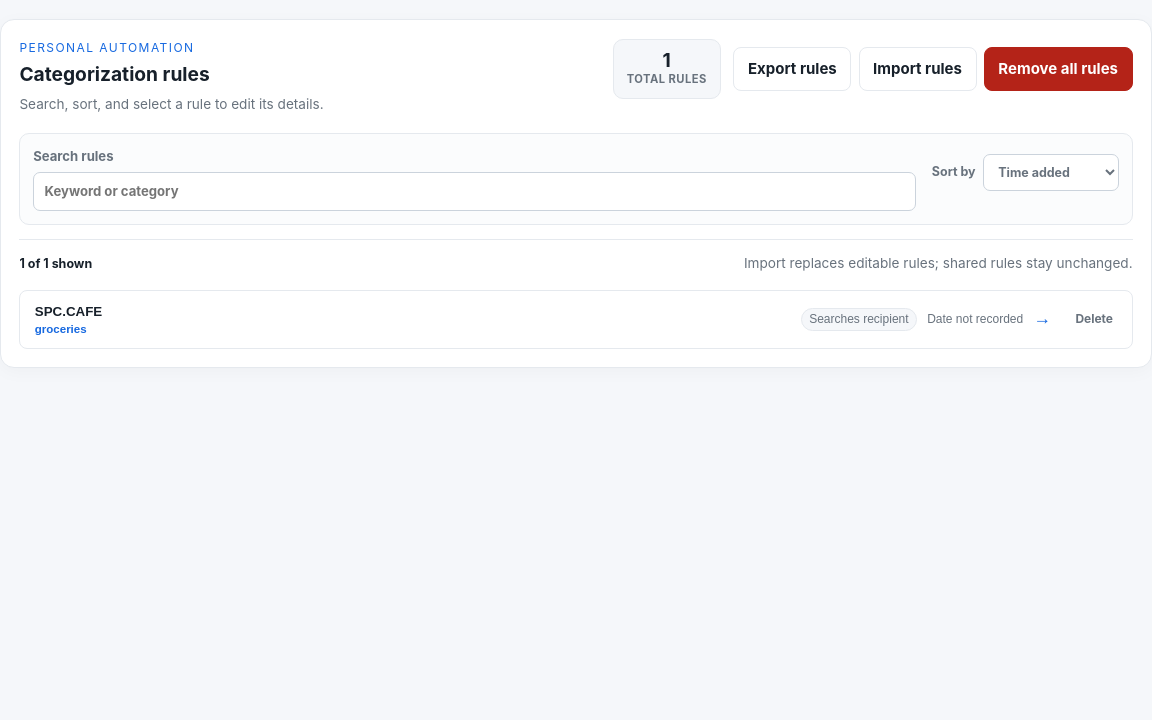
rule summary list management › requires typing delete and supports cancel before removing all rules
The image size is (1152, 720).
Click the button "Remove all rules" at (1058, 69), box [984,47,1133,91]
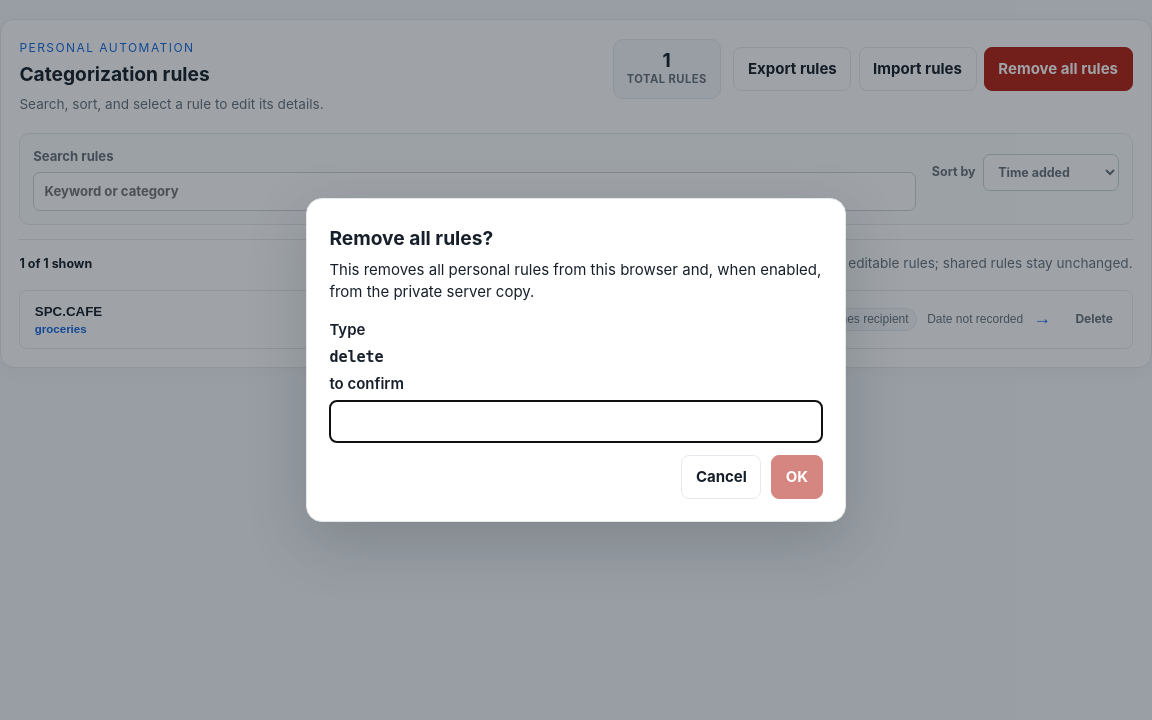
expect the dialog is shown: met, box [306,198,846,522]
expect the button "OK" is disabled: met, box [771,455,823,499]
Type "DELETE" into the field labelled "Type delete to confirm" at (576, 421), box [329,400,823,442]
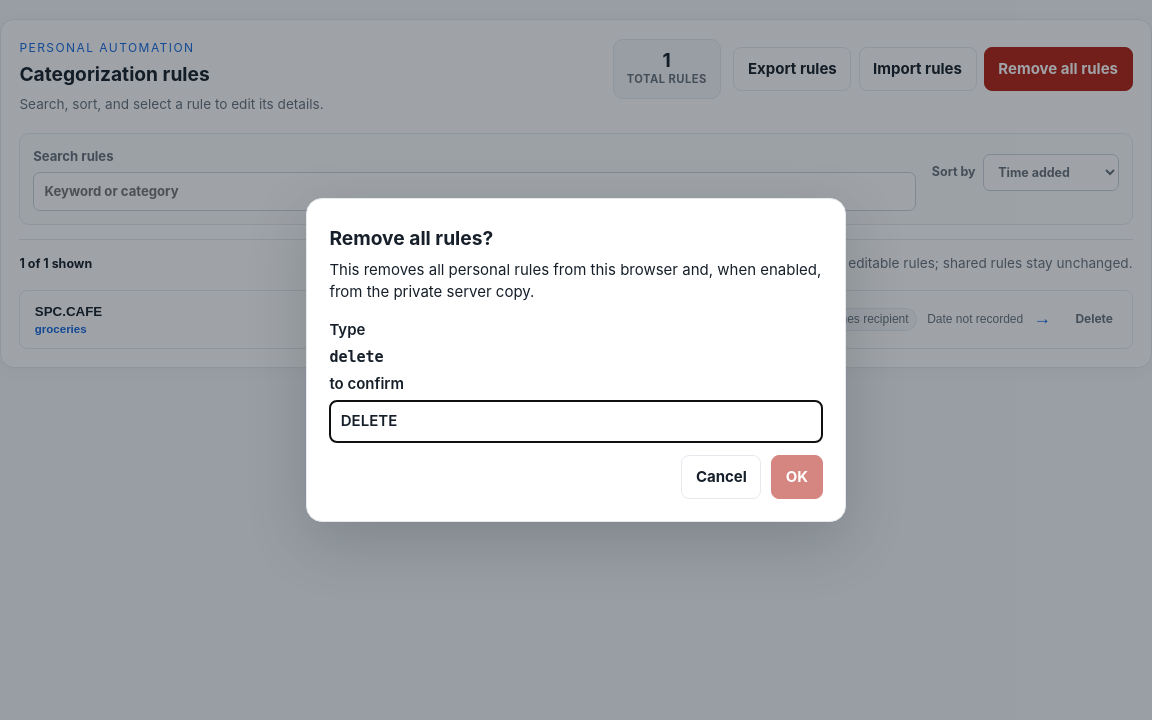
expect the button "OK" is disabled: met, box [771,455,823,499]
Click the button "Cancel" at (721, 477), box [681,455,762,499]
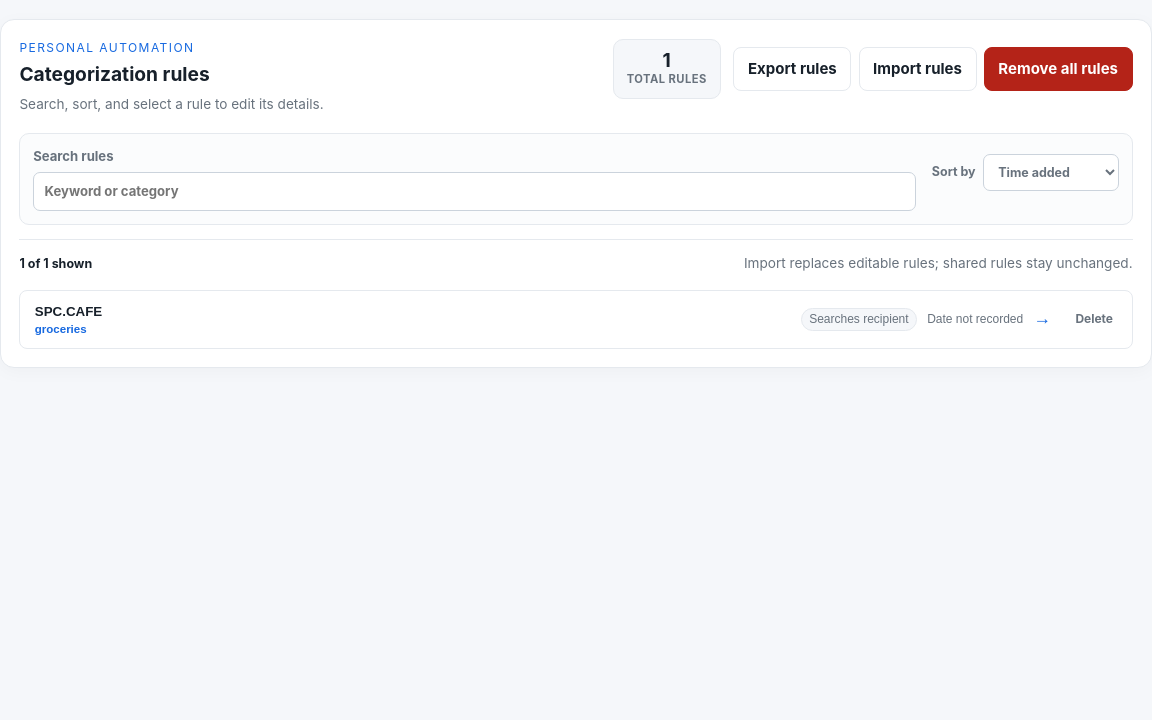
expect the dialog is gone: met
Click the button "Remove all rules" at (1058, 69), box [984,47,1133,91]
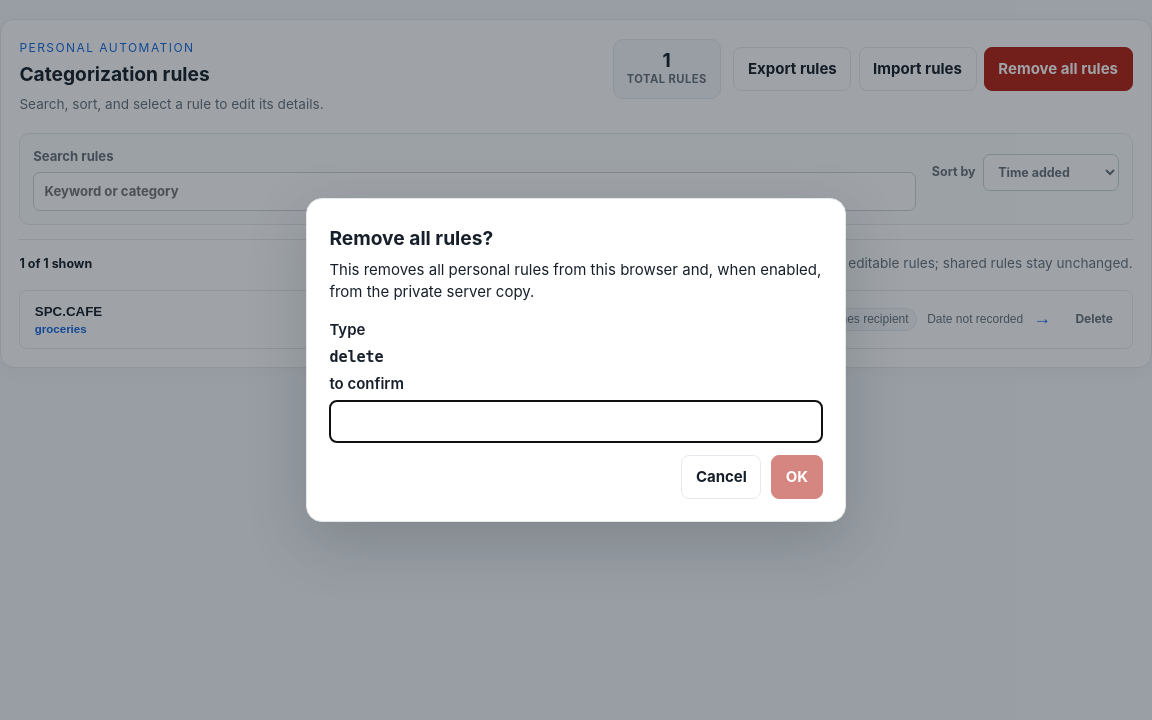
Type "delete" into the field labelled "Type delete to confirm" at (576, 421), box [329,400,823,442]
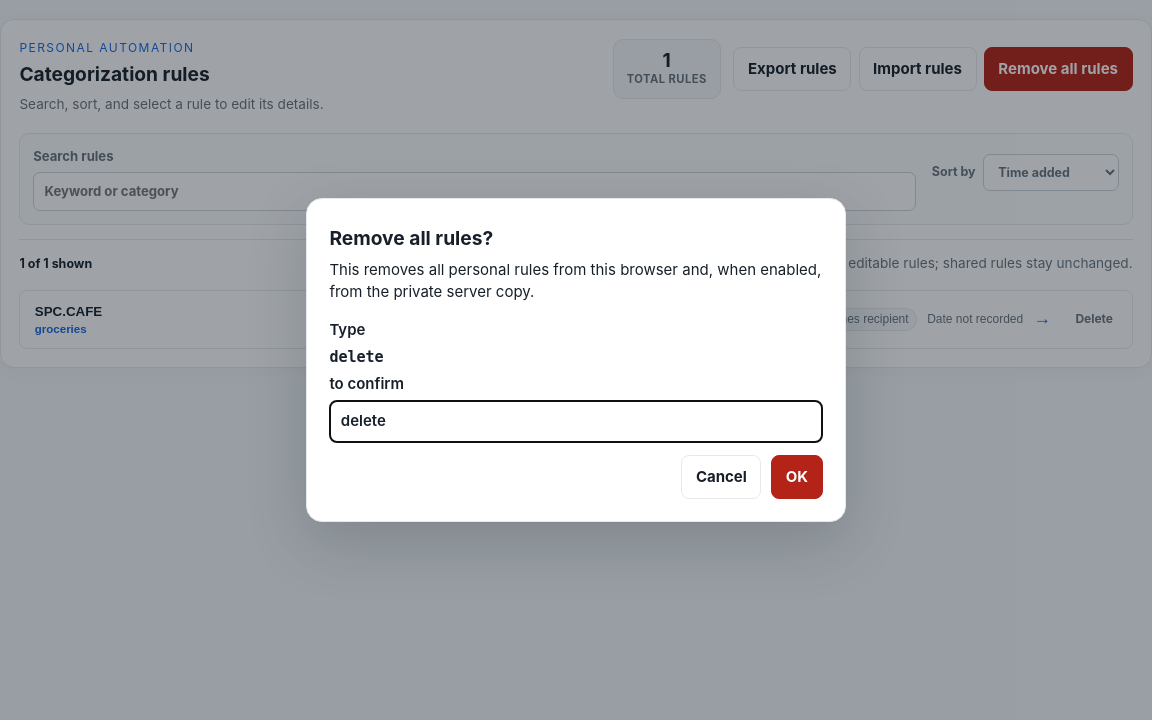
Click the button "OK" at (797, 477), box [771,455,823,499]
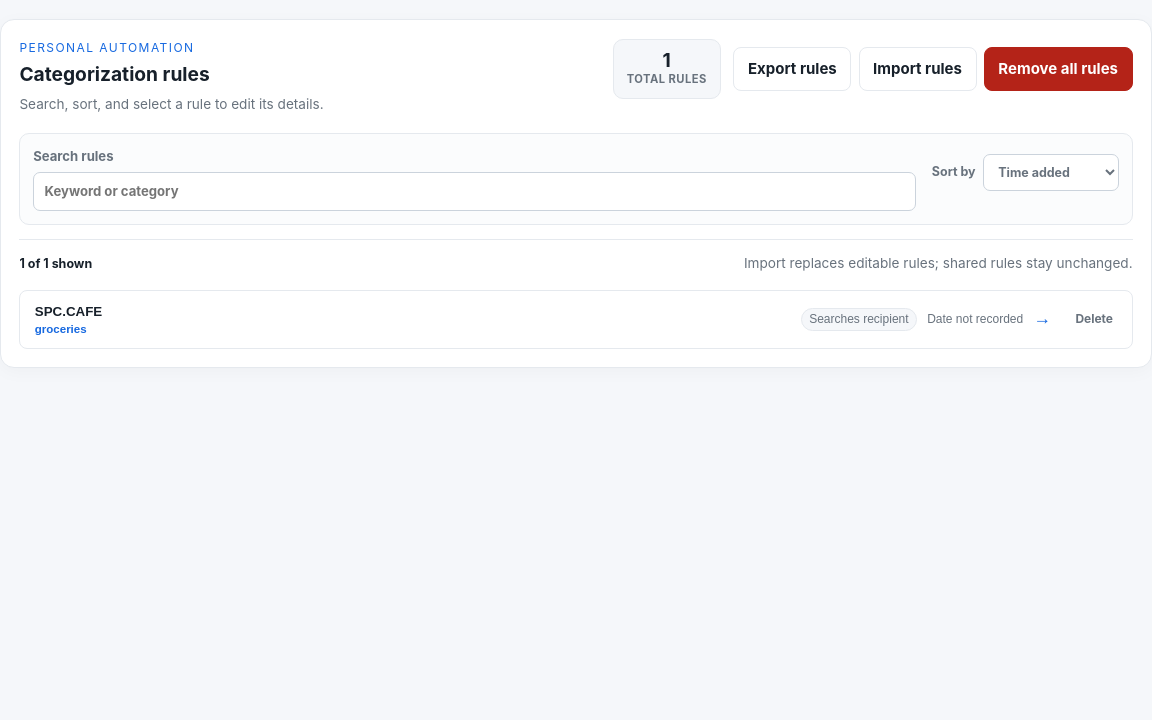
expect the dialog is gone: met
